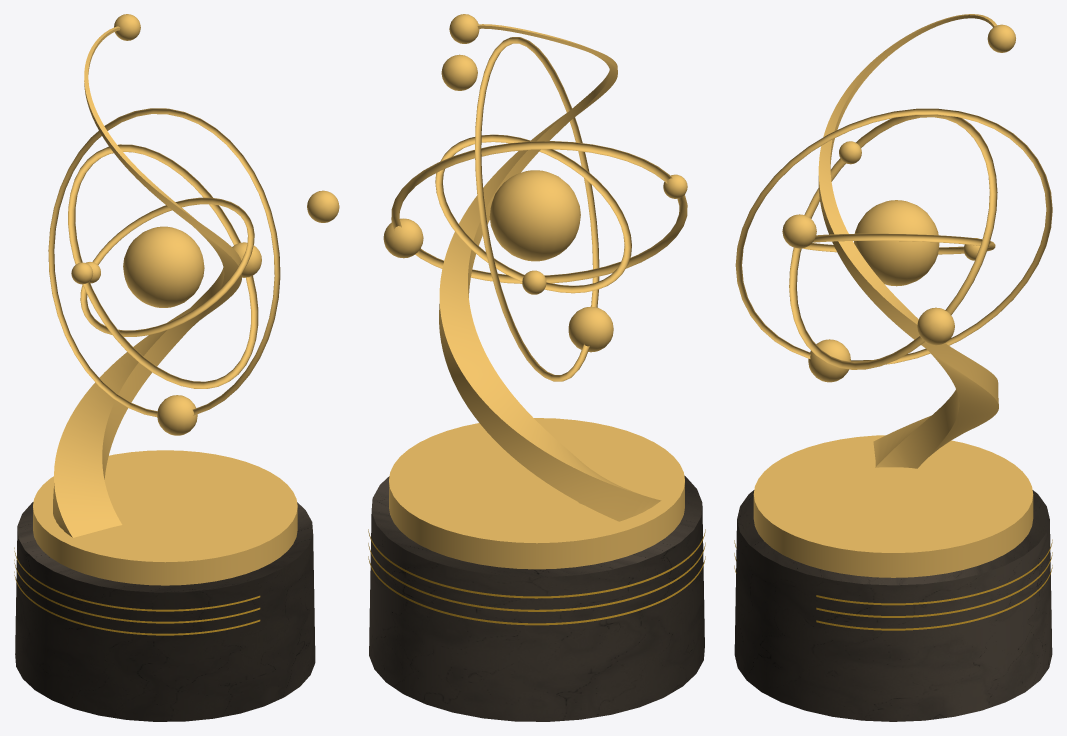
File: physics.glb
3 views of the same model, side by side, from view 1: azimuth 30°, elevation 25°; view 2: azimuth 150°, elevation 25°; view 3: azimuth 270°, elevation 25° (orthographic). The views are drawn at different scales.
Parts seen in each view (by area): view 1: marble_column, gold_cap, curved_pole, nucleus, orbit_b, orbit_c, orbit_a, electron_5, electron_3, gold_band_1, gold_band_2, gold_band_3 (+2 smaller); view 2: marble_column, gold_cap, curved_pole, nucleus, orbit_c, orbit_b, orbit_a, electron_5, electron_4, electron_3, gold_band_3, gold_band_2 (+2 smaller); view 3: marble_column, gold_cap, curved_pole, orbit_b, nucleus, orbit_c, orbit_a, electron_5, electron_4, electron_3, tip_ball, gold_band_1 (+2 smaller).
Part boxes in pixels (bbox=[...]): marble_column: bbox=[15, 502, 315, 721]; gold_cap: bbox=[33, 450, 297, 585]; curved_pole: bbox=[53, 26, 241, 537]; nucleus: bbox=[123, 226, 204, 307]; orbit_b: bbox=[48, 108, 280, 416]; orbit_c: bbox=[68, 144, 258, 388]; orbit_a: bbox=[80, 197, 254, 336]; electron_5: bbox=[157, 395, 197, 435]; electron_3: bbox=[307, 190, 339, 222]; gold_band_1: bbox=[14, 571, 260, 635]; gold_band_2: bbox=[14, 559, 260, 623]; gold_band_3: bbox=[14, 547, 260, 611]; marble_column: bbox=[369, 475, 704, 721]; gold_cap: bbox=[389, 418, 684, 569]; curved_pole: bbox=[439, 24, 661, 521]; nucleus: bbox=[489, 170, 580, 261]; orbit_c: bbox=[391, 141, 687, 283]; orbit_b: bbox=[475, 37, 599, 381]; orbit_a: bbox=[435, 134, 631, 293]; electron_5: bbox=[568, 306, 613, 352]; electron_4: bbox=[383, 218, 423, 258]; electron_3: bbox=[441, 54, 477, 90]; gold_band_3: bbox=[368, 529, 705, 598]; gold_band_2: bbox=[368, 542, 705, 611]; marble_column: bbox=[734, 490, 1052, 721]; gold_cap: bbox=[753, 435, 1033, 577]; curved_pole: bbox=[818, 14, 998, 468]; orbit_b: bbox=[735, 108, 1052, 364]; nucleus: bbox=[854, 200, 939, 286]; orbit_c: bbox=[789, 115, 997, 369]; orbit_a: bbox=[802, 233, 995, 254]; electron_5: bbox=[808, 339, 850, 382]; electron_4: bbox=[917, 307, 954, 345]; electron_3: bbox=[782, 214, 816, 248]; tip_ball: bbox=[987, 24, 1015, 52]; gold_band_1: bbox=[734, 565, 1052, 630].
Size of what is drawn, in the model's own units: 0.4543 by 1 by 0.4544.
Materials: 3 (1 with a texture image).
